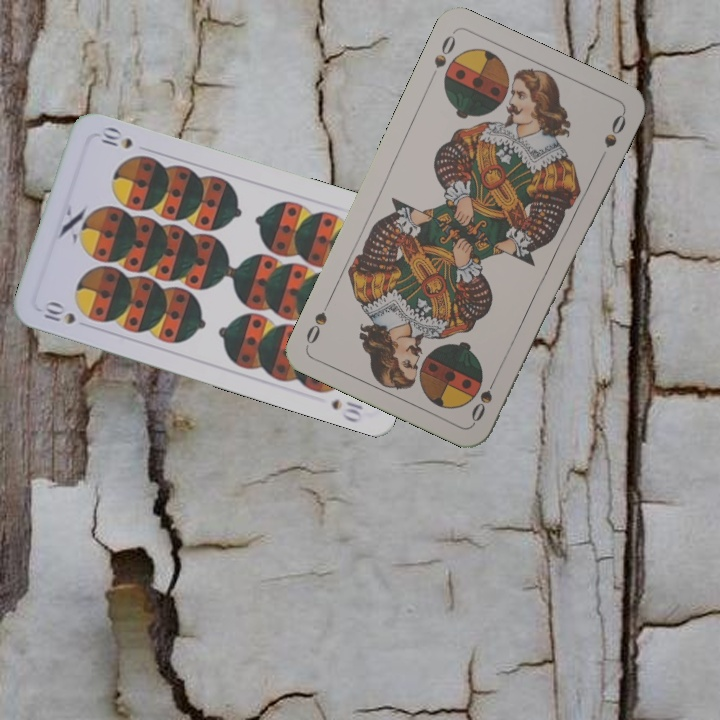S10: (38, 298, 78, 327)
SO: (467, 369, 501, 425), (430, 31, 458, 71)
